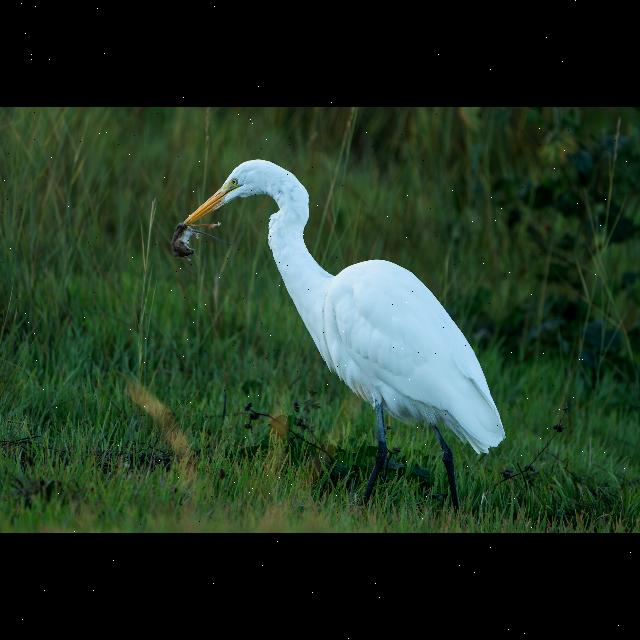egret: (175, 158, 505, 492)
